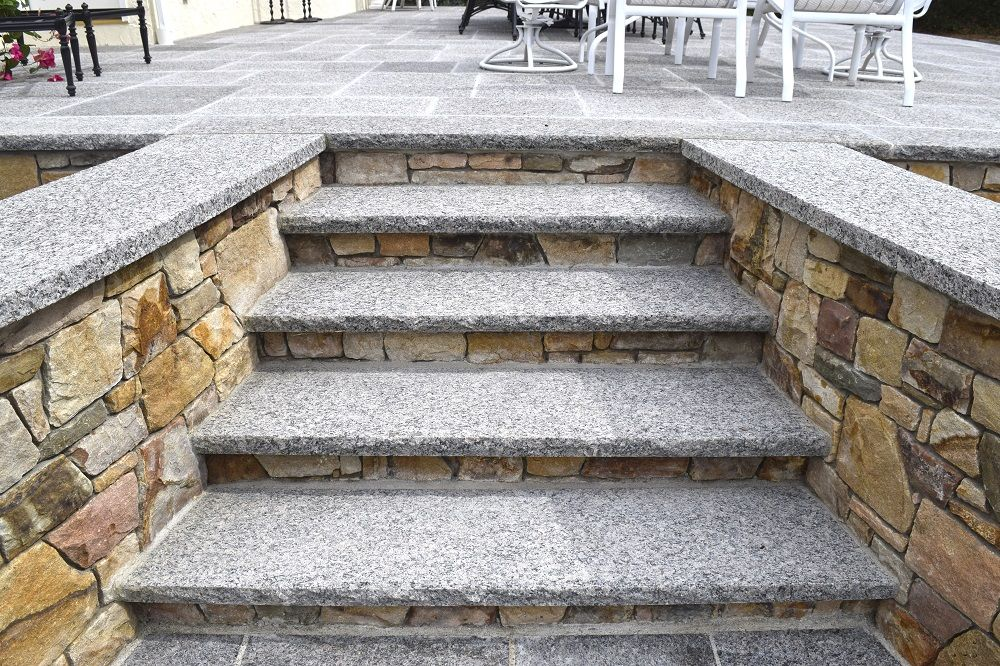upstairs: (336, 114, 678, 658)
